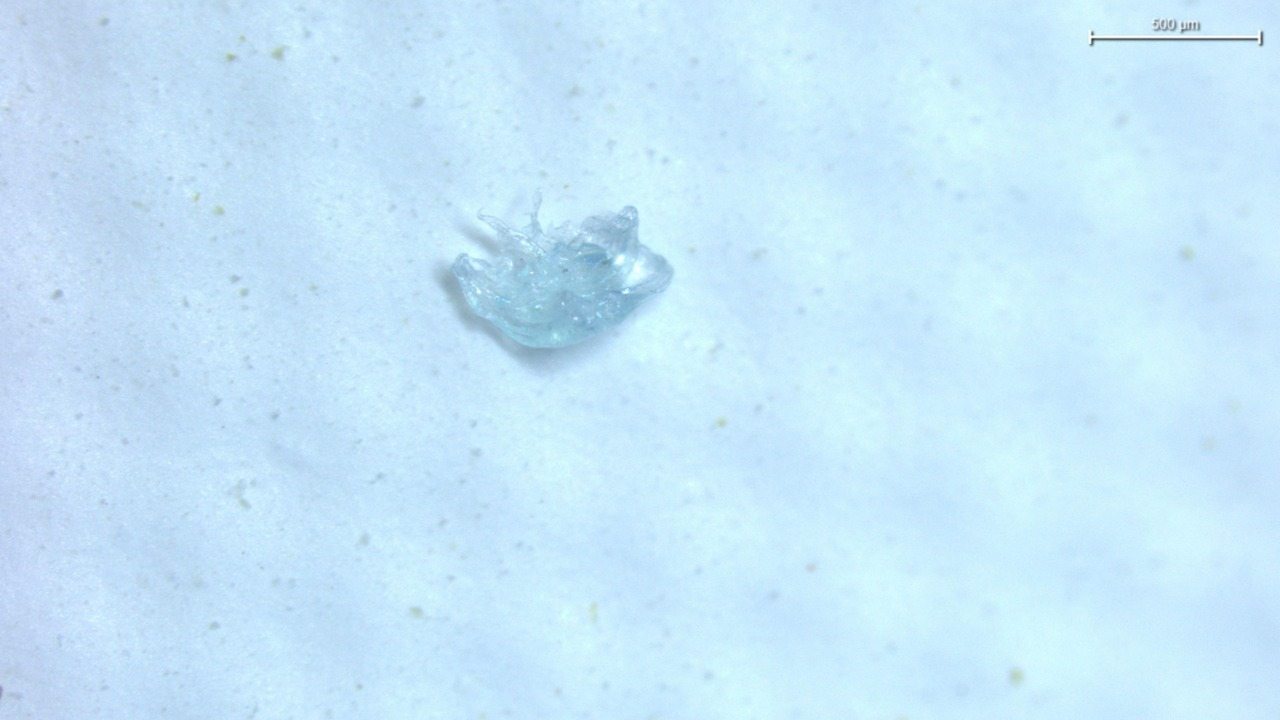microplastic_fragment: (451, 192, 673, 348)
